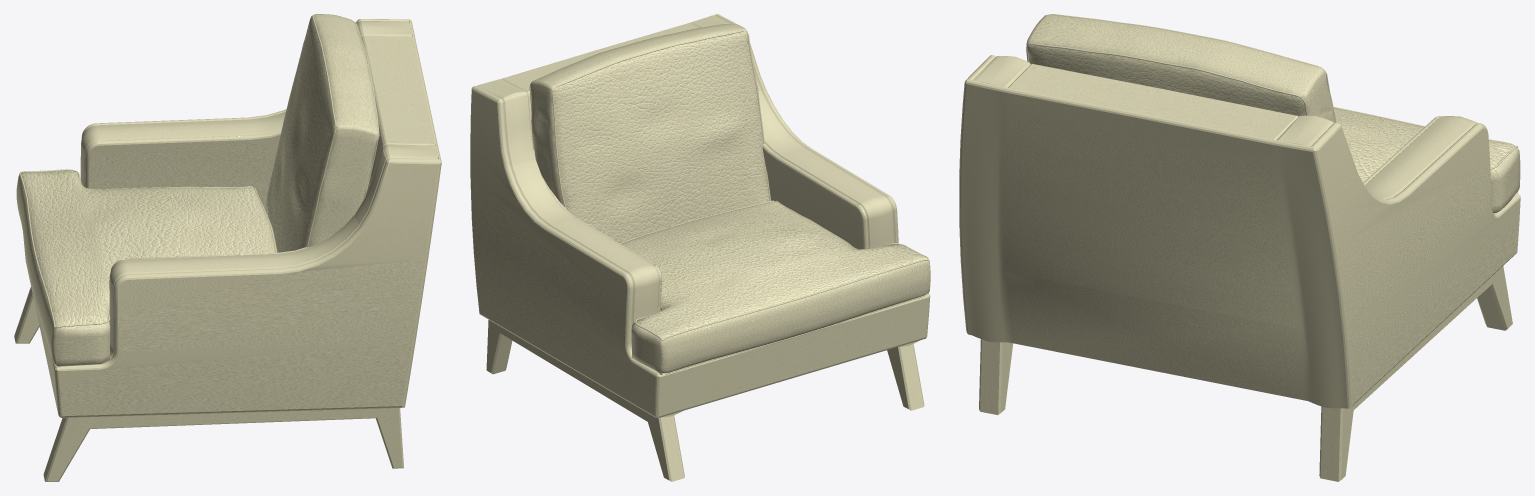
File: chair.obj
3 renders of one model, left to right at view 1: azimuth 30°, elevation 25°; view 2: azimuth 150°, elevation 25°; view 3: azimuth 270°, elevation 25°, orthographic. The views are drawn at different scales.
Visible parts, largest first — view 1: fal001b, 6, 4, 2; view 2: fal001b, 4, 6, 2; view 3: fal001b, 4, 2, 6.
Part boxes in pixels (left/top/right/bottom): fal001b: left=23, top=19, right=441, bottom=417; 6: left=16, top=169, right=277, bottom=367; 4: left=266, top=14, right=379, bottom=252; 2: left=14, top=287, right=403, bottom=481; fal001b: left=470, top=14, right=930, bottom=418; 4: left=529, top=24, right=770, bottom=243; 6: left=620, top=200, right=930, bottom=374; 2: left=486, top=320, right=924, bottom=481; fal001b: left=959, top=55, right=1520, bottom=408; 4: left=1026, top=14, right=1336, bottom=122; 2: left=979, top=266, right=1512, bottom=481; 6: left=1333, top=107, right=1520, bottom=213.
Size of the model in its own units: 43.55 by 32.3 by 42.41.
